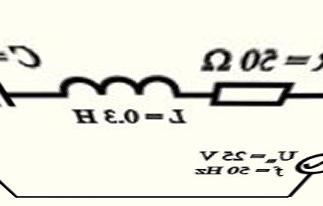inductor: (51, 62, 185, 108)
